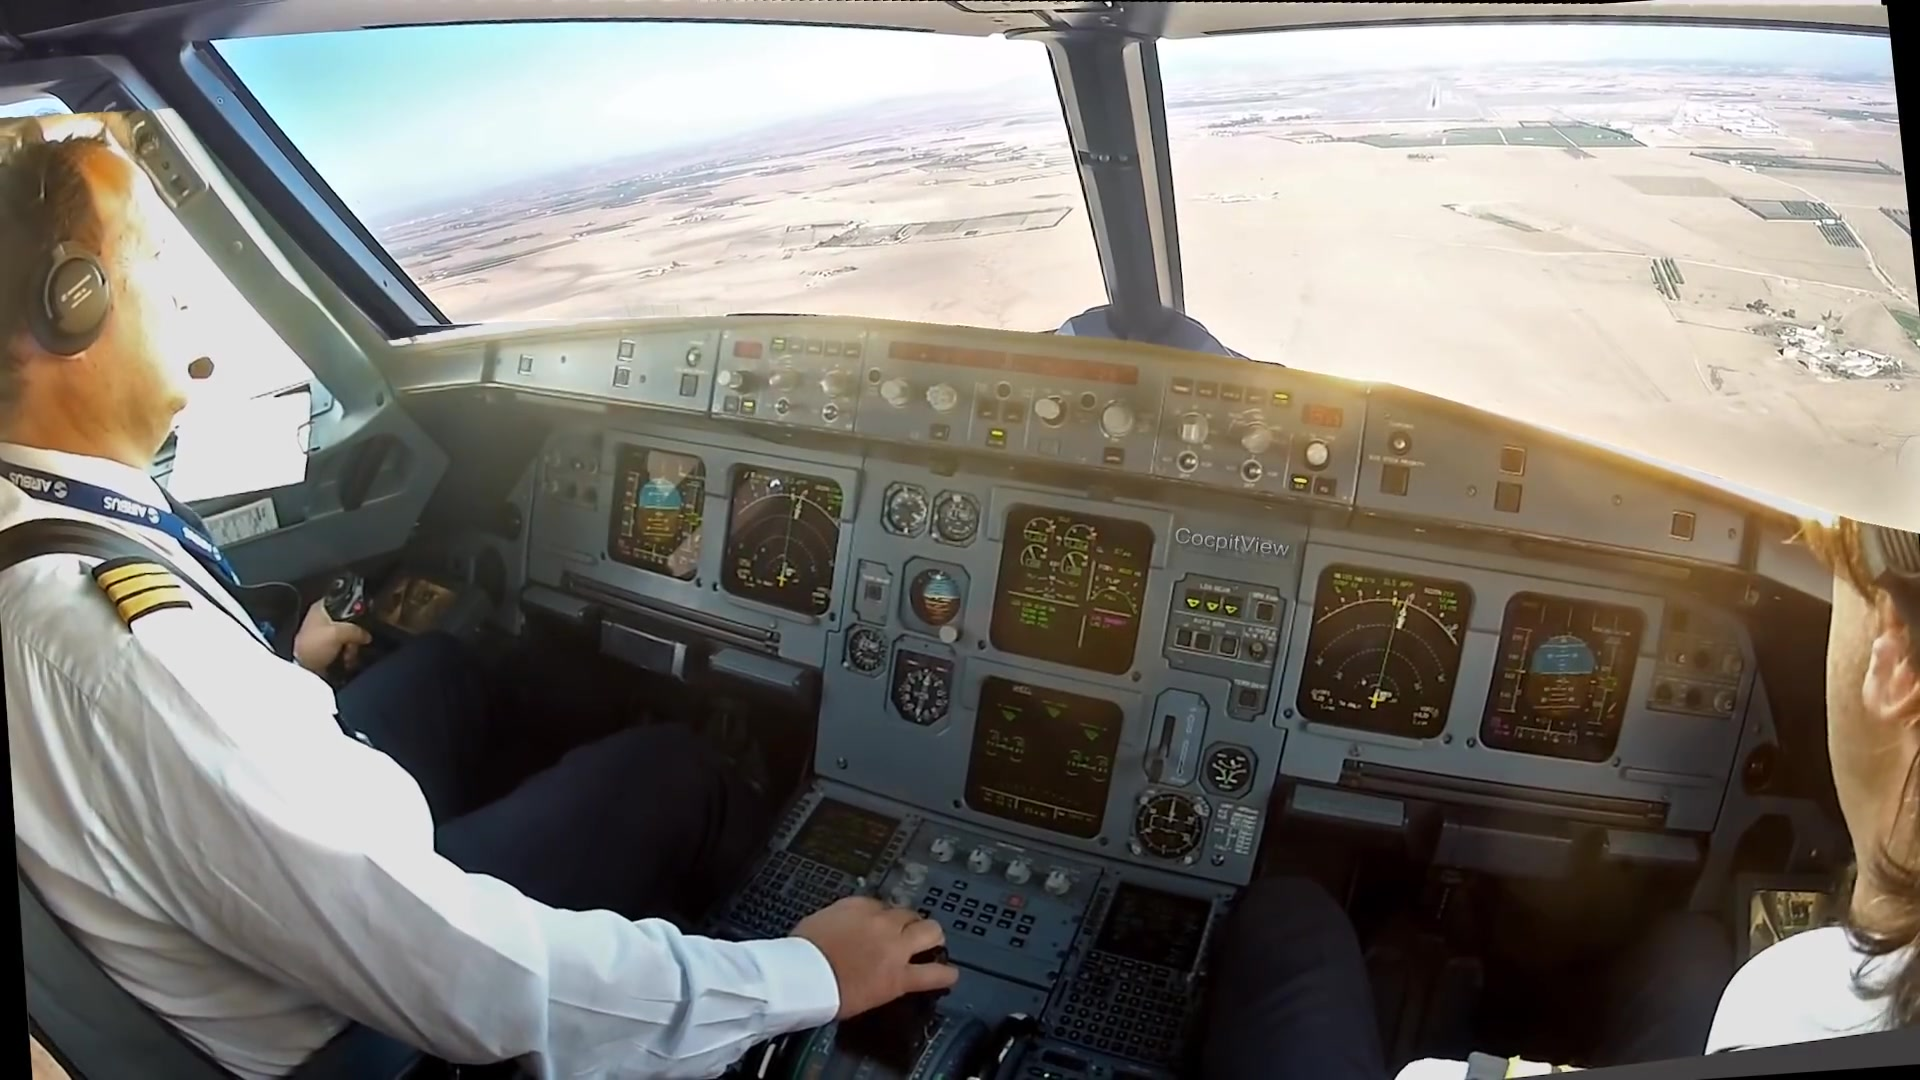runway: (1424, 76, 1444, 113)
